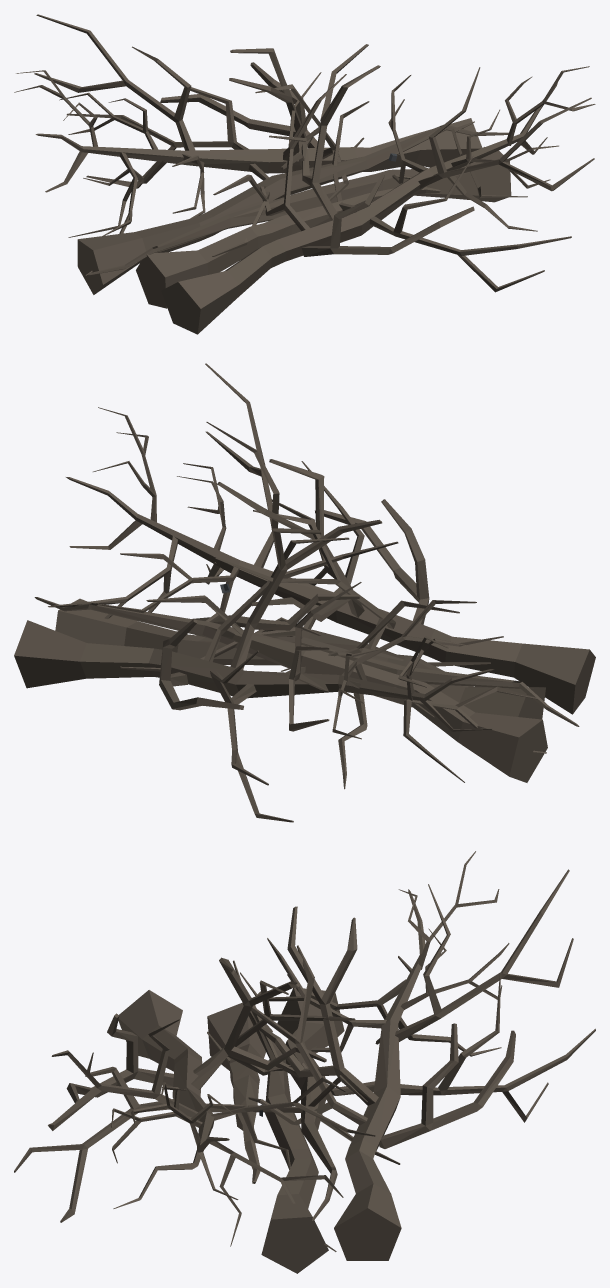
The model's file is engel2.fbx.
3 renders of one model, top to bottom at view 1: azimuth 30°, elevation 25°; view 2: azimuth 150°, elevation 25°; view 3: azimuth 270°, elevation 25°, orthographic. The views are drawn at different scales.
Parts seen in each view (by area): view 1: engel2, SM_Env_TreeDead_011, SM_Env_TreeDead_009, SM_Env_TreeDead_006, SM_Env_TreeDead_008, SM_Env_TreeDead_010; view 2: engel2, SM_Env_TreeDead_011, SM_Env_TreeDead_006, SM_Env_TreeDead_009, SM_Env_TreeDead_008, SM_Env_TreeDead_010; view 3: engel2, SM_Env_TreeDead_006, SM_Env_TreeDead_008, SM_Env_TreeDead_011, SM_Env_TreeDead_009, SM_Env_TreeDead_010.
Part boxes in pixels (x1,y1,x2,y2): engel2: (14, 14, 595, 292); SM_Env_TreeDead_011: (161, 83, 557, 334); SM_Env_TreeDead_009: (77, 124, 508, 294); SM_Env_TreeDead_006: (35, 118, 482, 192); SM_Env_TreeDead_008: (87, 150, 511, 275); SM_Env_TreeDead_010: (136, 187, 440, 308); engel2: (48, 363, 546, 822); SM_Env_TreeDead_011: (66, 477, 595, 714); SM_Env_TreeDead_006: (14, 620, 493, 731); SM_Env_TreeDead_009: (34, 597, 547, 782); SM_Env_TreeDead_008: (55, 598, 579, 726); SM_Env_TreeDead_010: (192, 615, 545, 719); engel2: (14, 851, 595, 1251); SM_Env_TreeDead_006: (334, 889, 426, 1260); SM_Env_TreeDead_008: (243, 991, 328, 1273); SM_Env_TreeDead_011: (118, 990, 238, 1199); SM_Env_TreeDead_009: (277, 987, 344, 1220); SM_Env_TreeDead_010: (207, 1002, 272, 1183).
Size of the model in its own units: 711 by 286 by 677.
1 material, 1 textured.
